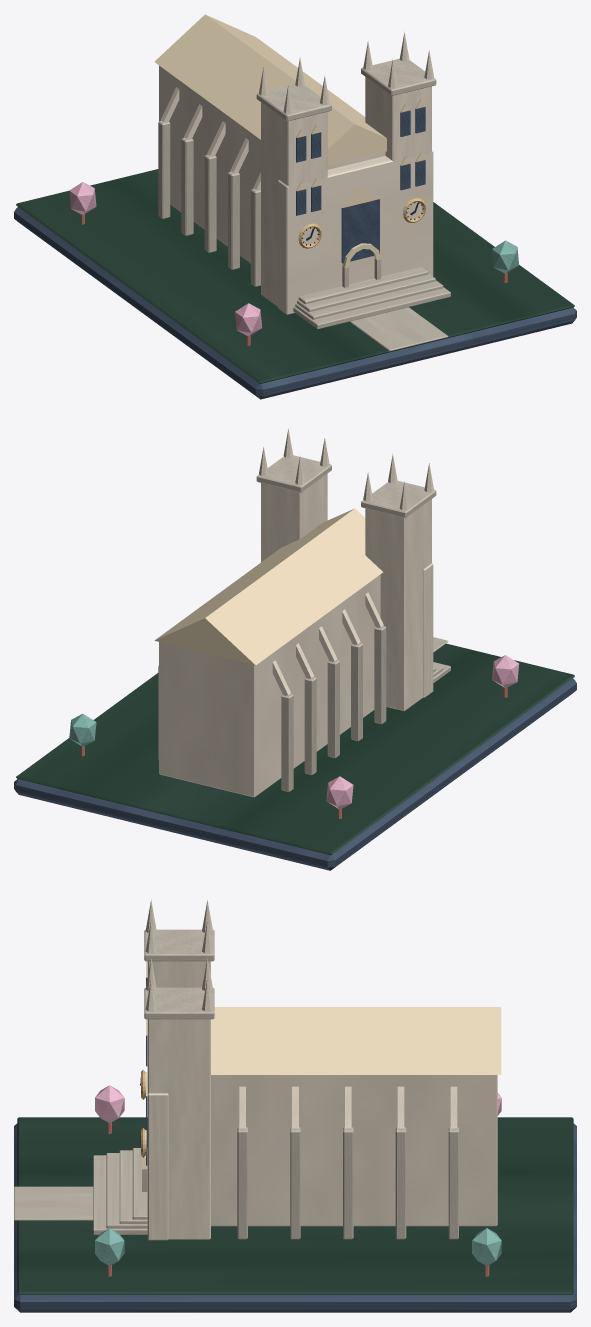
Rendered from westminster-abbey-diorama.glb.
3 renders of one model, top to bottom at view 1: azimuth 30°, elevation 25°; view 2: azimuth 150°, elevation 25°; view 3: azimuth 270°, elevation 25°, orthographic. The views are drawn at different scales.
Visible parts, largest first — view 1: westminster-abbey; view 2: westminster-abbey; view 3: westminster-abbey.
Boxes of the visible parts, left/top/right/bottom form: westminster-abbey: left=14, top=14, right=576, bottom=399; westminster-abbey: left=14, top=428, right=576, bottom=870; westminster-abbey: left=14, top=900, right=576, bottom=1312.
Size of the model in its own units: 12 by 9.02 by 16.
Materials: 1 (1 with a texture image).
